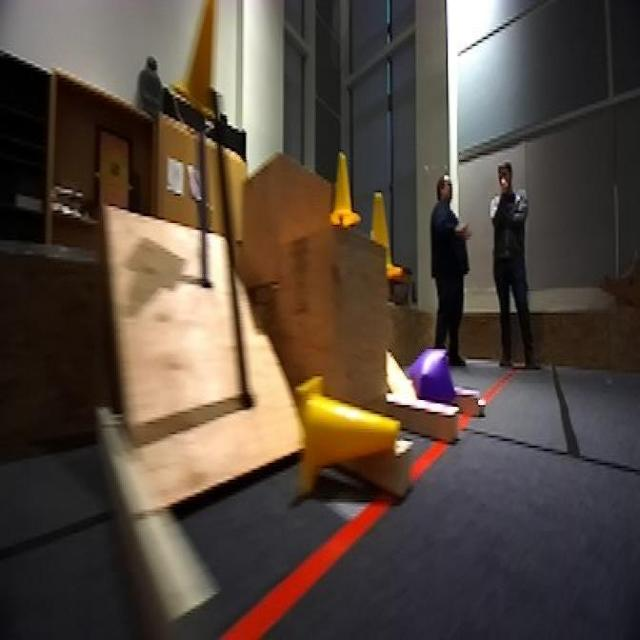frc_cone: (294, 376, 409, 495), (168, 0, 225, 121), (367, 187, 403, 279), (325, 150, 361, 233)
frc_cube: (410, 349, 456, 410)
